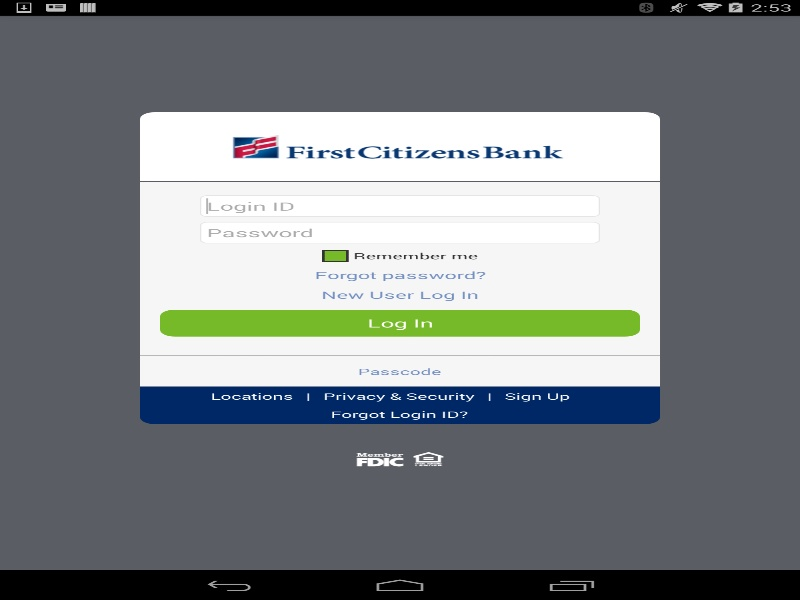Button: (160, 309, 640, 336)
Input: (200, 221, 600, 243), (200, 195, 600, 216)
